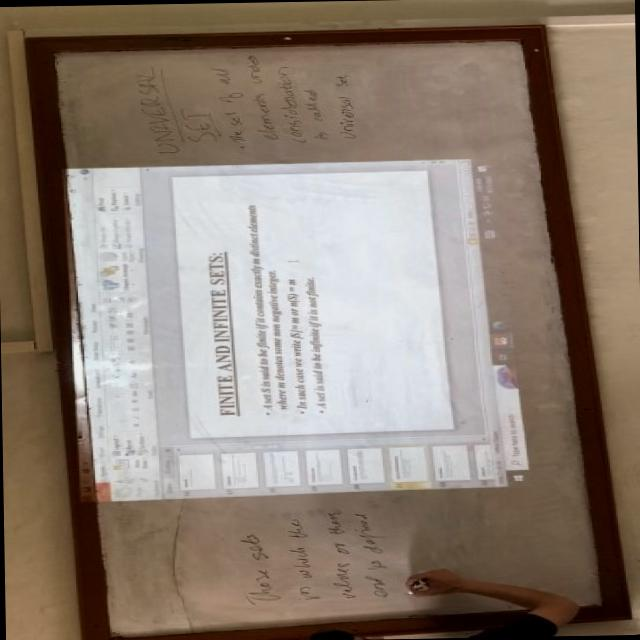Slide: (62, 156, 543, 501)
White-board: (40, 32, 615, 640)
